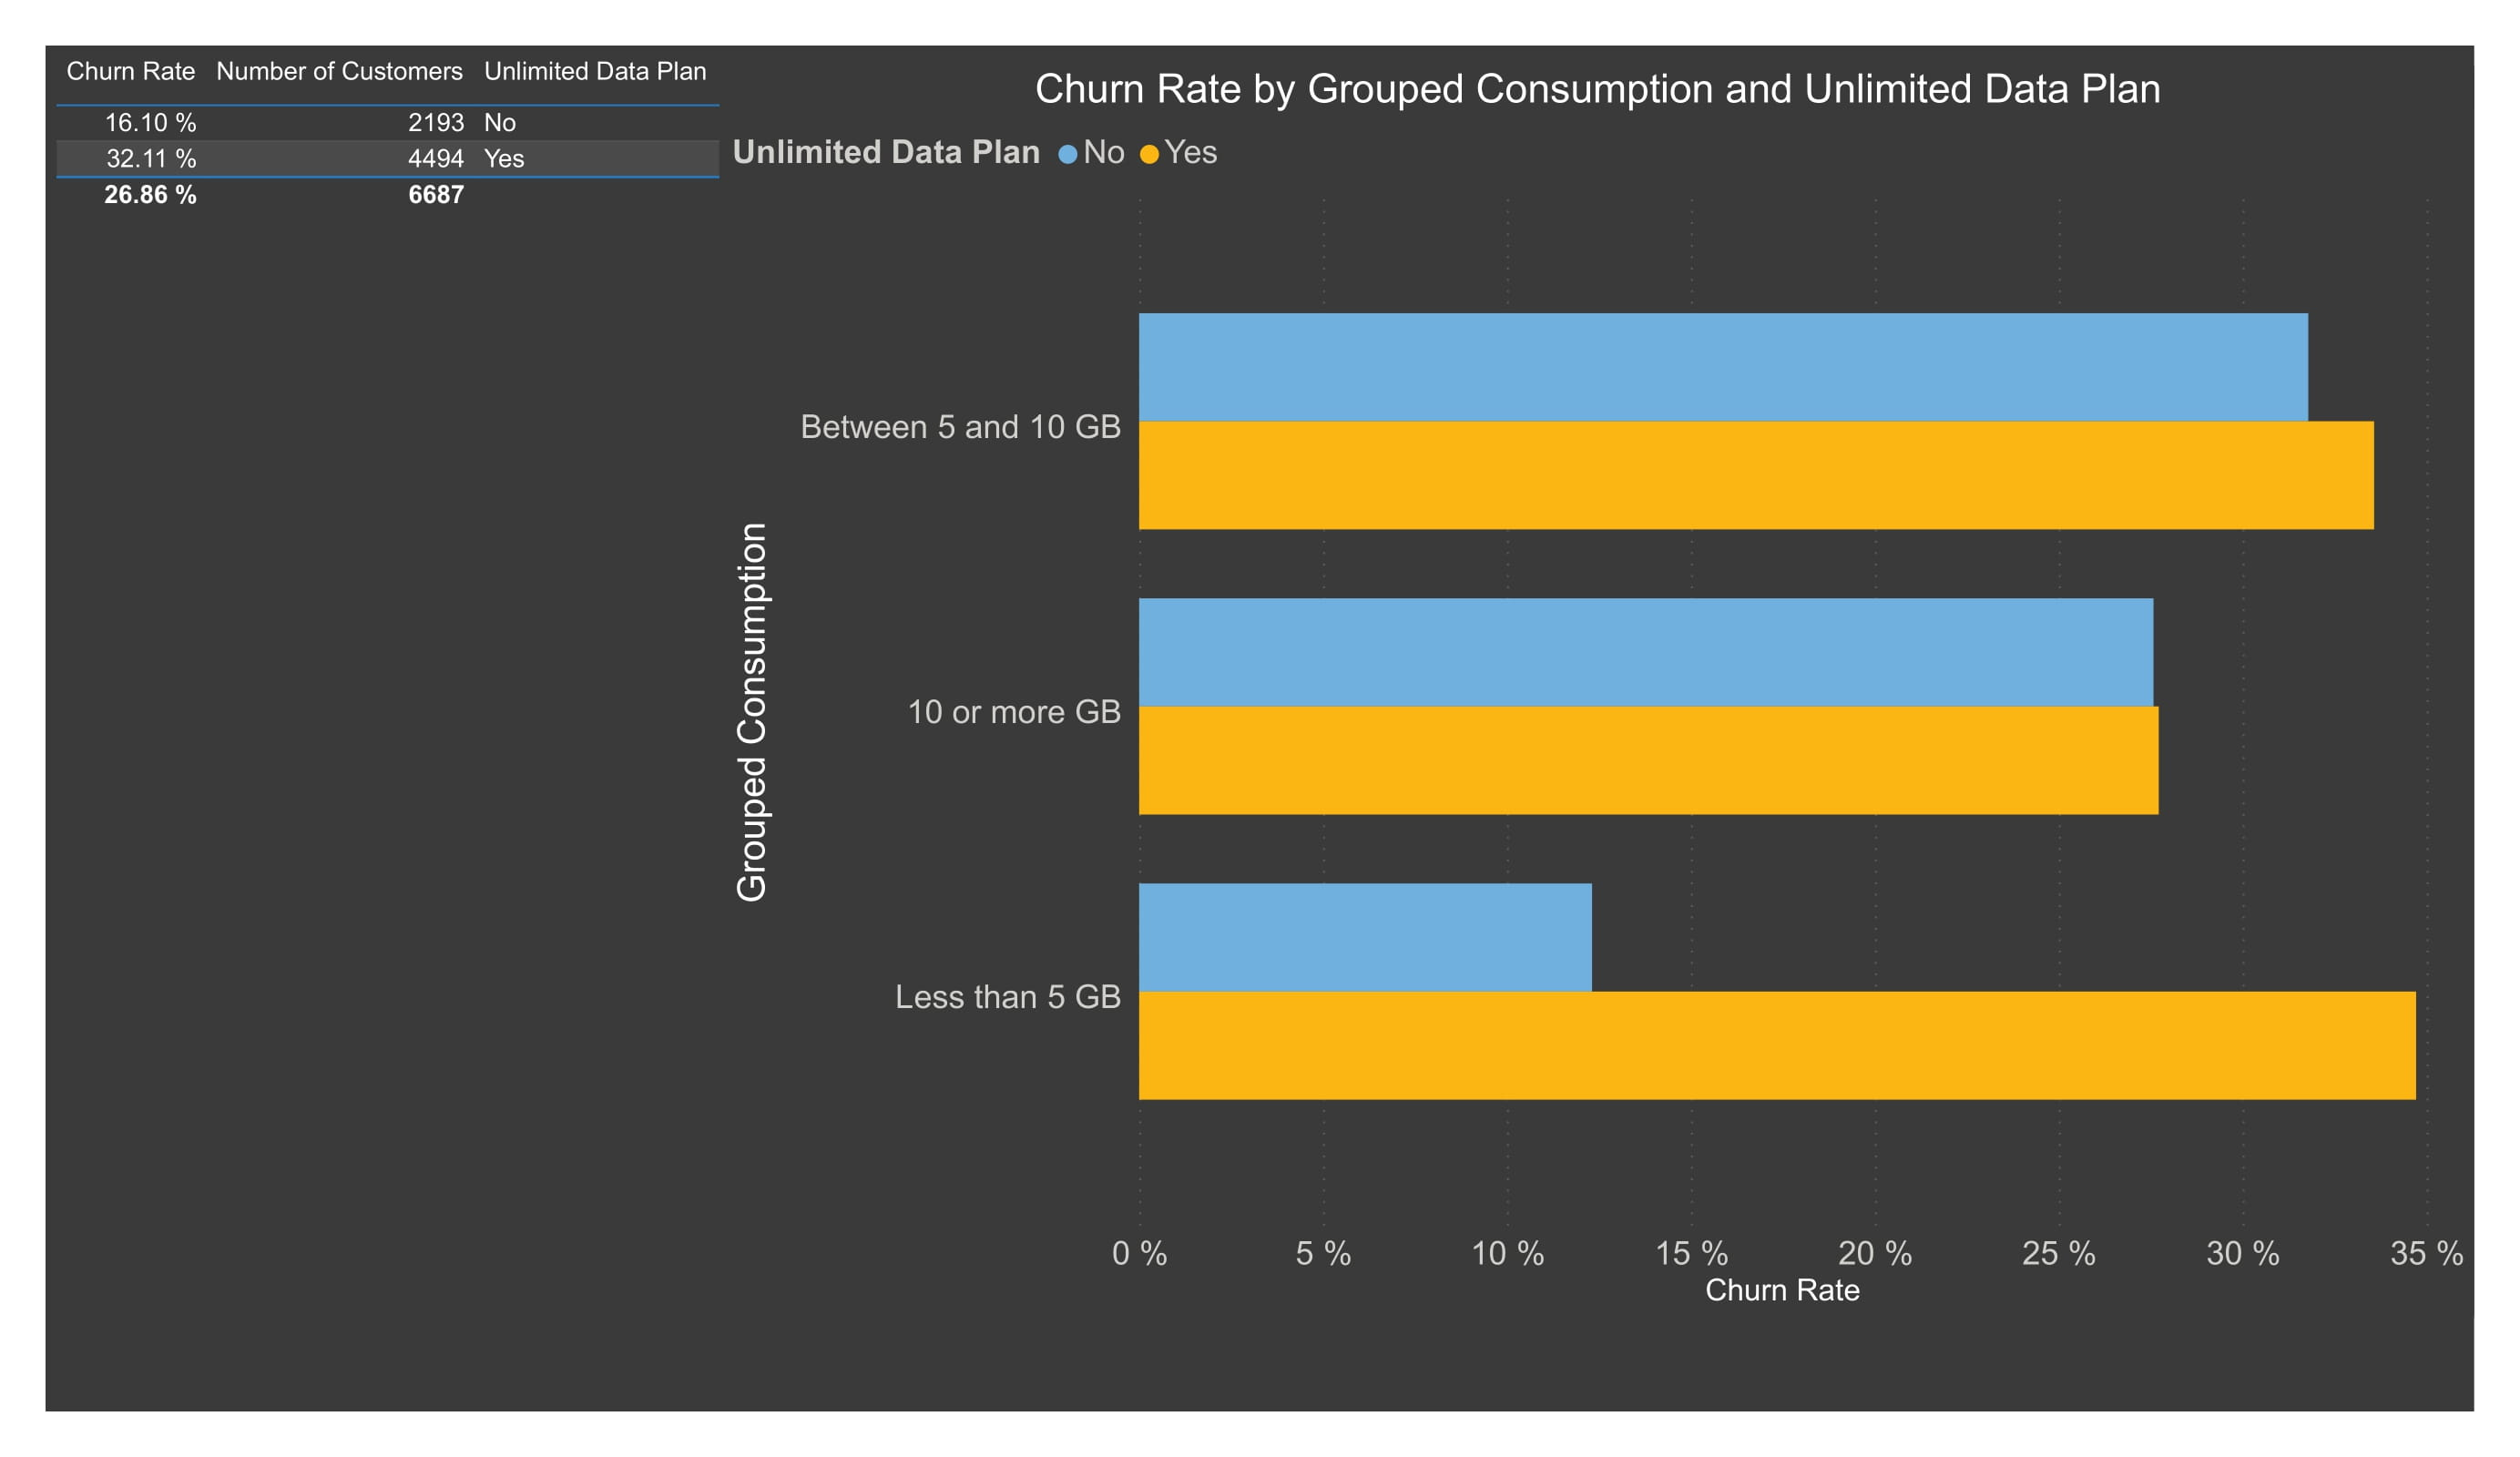

This screenshot's page, from the dashboard's own definition file:
{"tool":"powerbi","page":{"name":"Unlimited Plan","canvas":[1280,720],"ordinal":2},"visuals":[{"type":"tableEx","fields":{"Values":["Databel - Data.Churn Rate","Databel - Data.Number of Costumers","Databel - Data.Unlimited Data Plan"]},"box":[0,0,380.6,133.6],"z":0},{"type":"clusteredBarChart","fields":{"Category":["Databel - Data.Grouped Consumption"],"Y":["Databel - Data.Churn Rate"],"Series":["Databel - Data.Unlimited Data Plan"]},"box":[357.3,10.9,922.7,658.6],"z":1000}]}

Visuals, with their boxes in screenshot pixels (x1, y1, x2, y2):
tableEx - Databel - Data.Churn Rate x Databel - Data.Number of Costumers: pyautogui.locateOnScreen(46, 46, 768, 299)
clusteredBarChart - Databel - Data.Grouped Consumption x Databel - Data.Churn Rate: pyautogui.locateOnScreen(723, 66, 2474, 1316)
